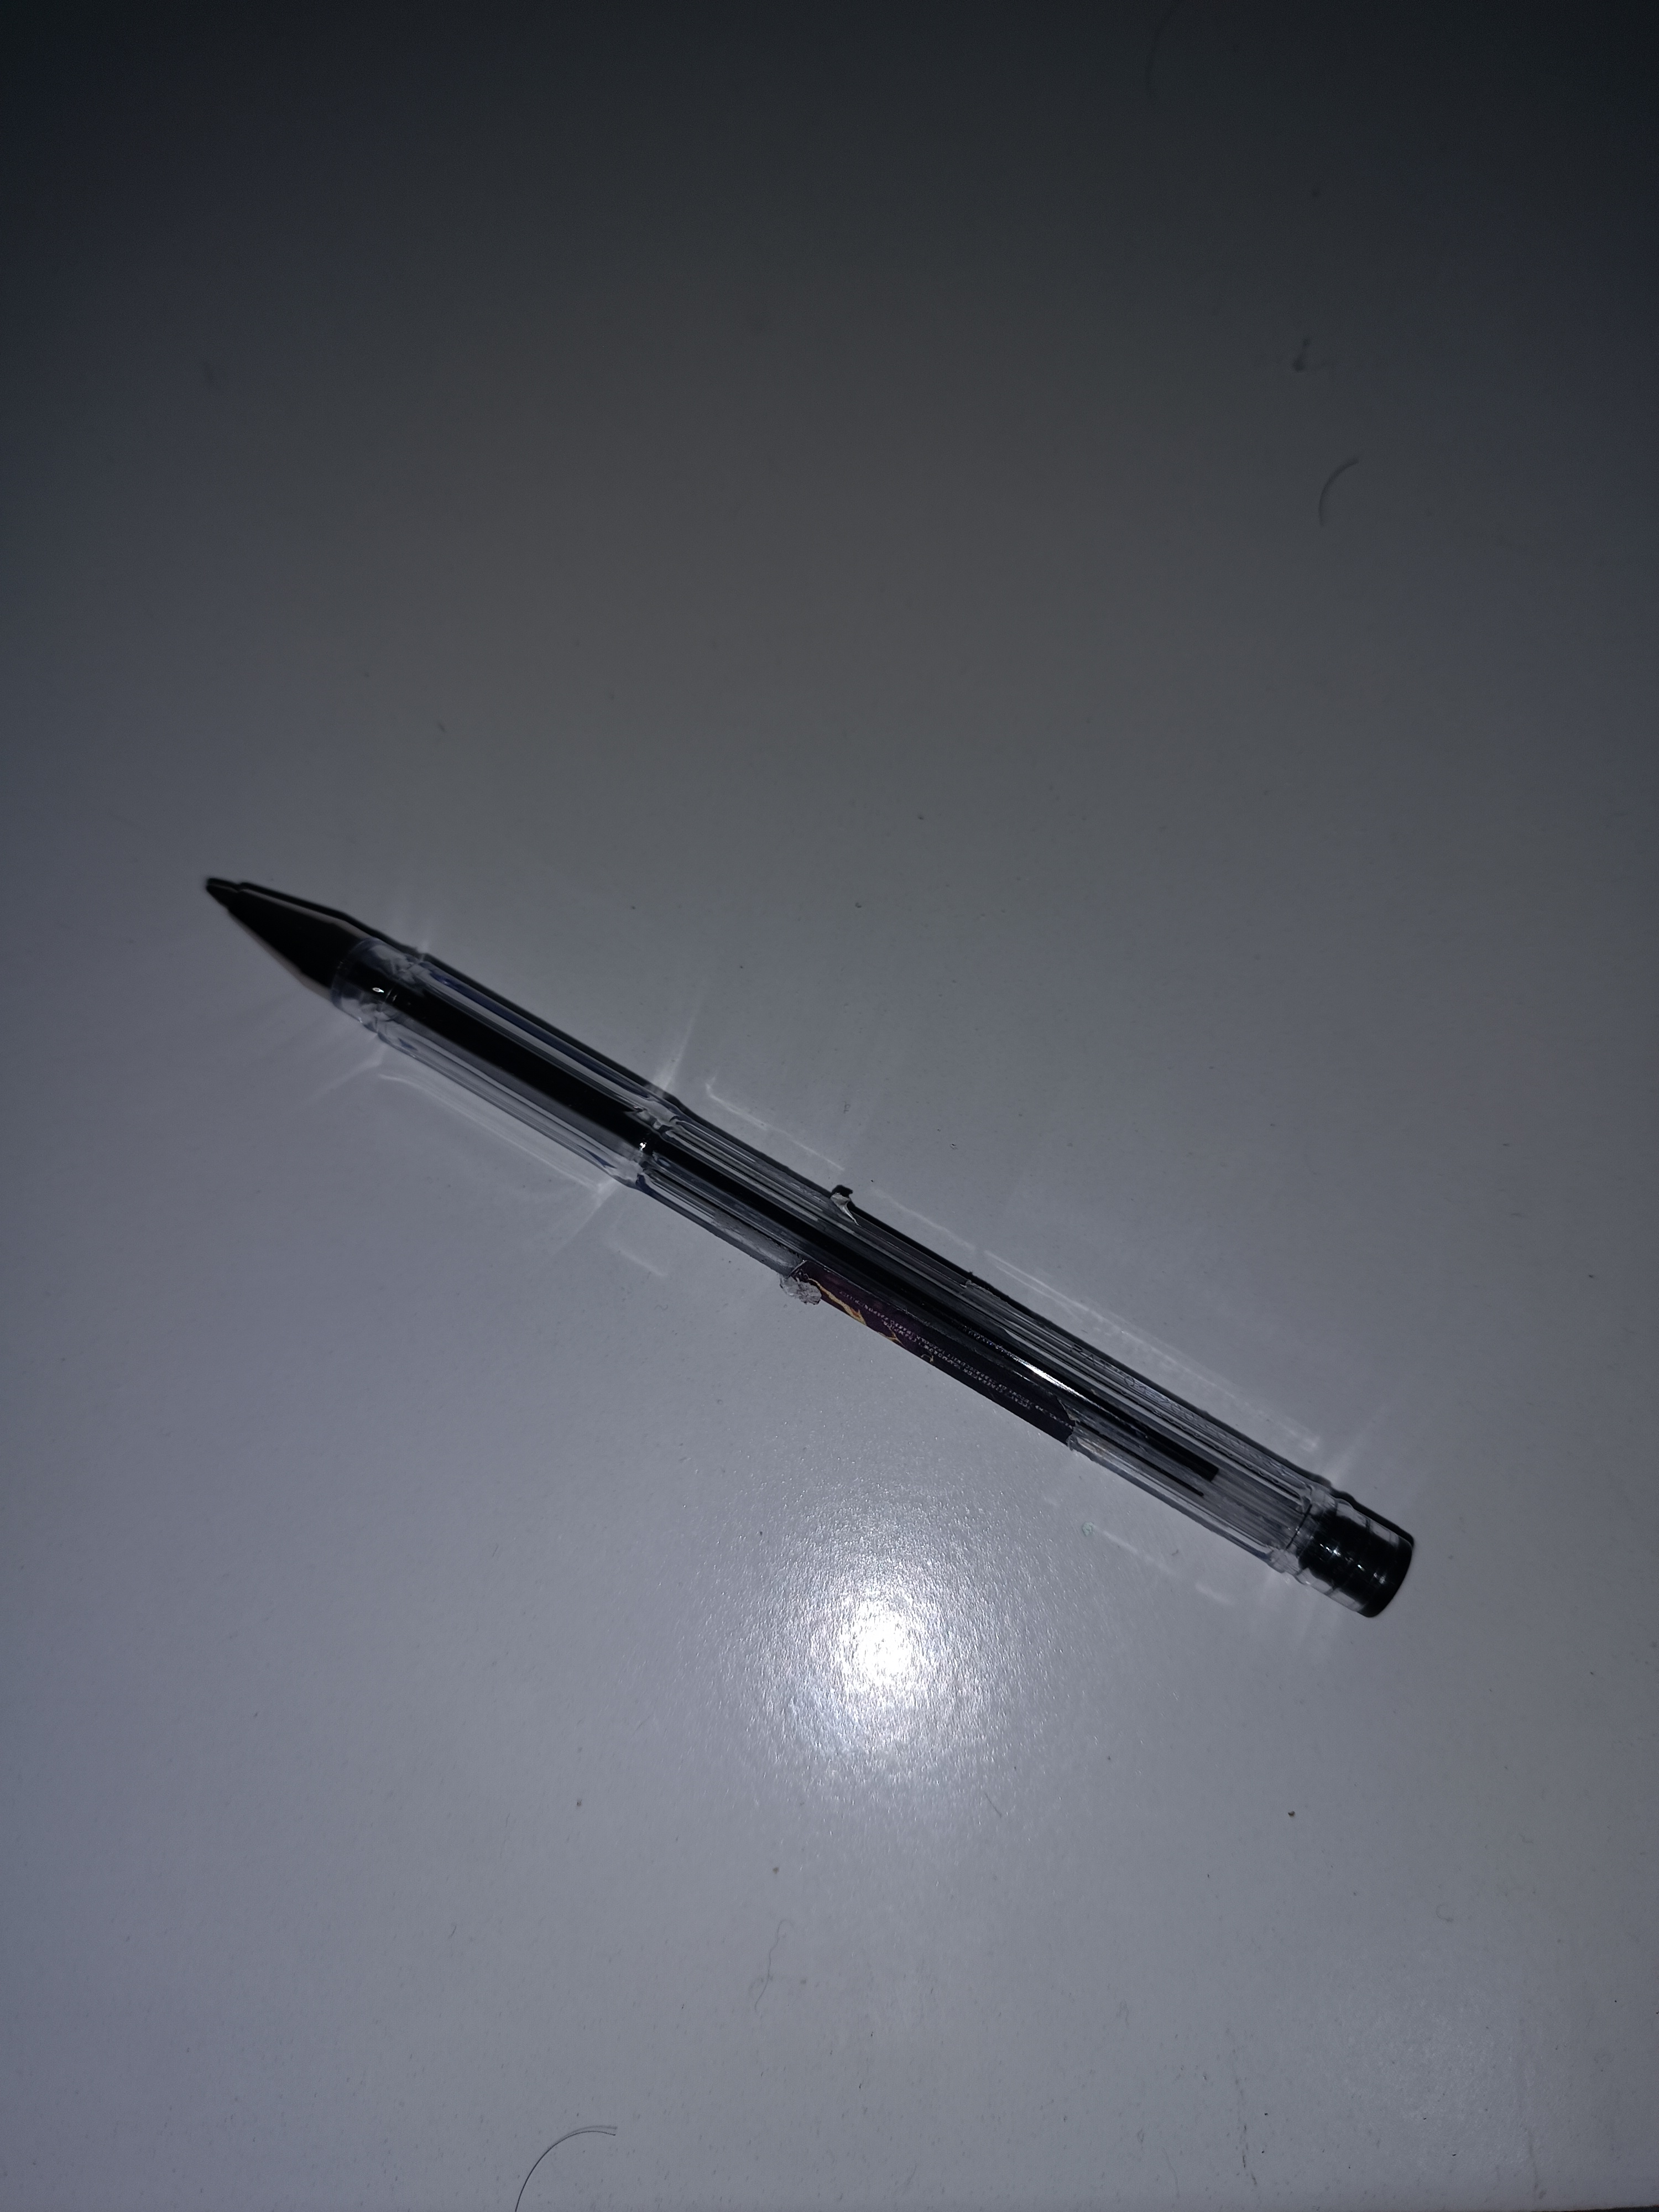Pen: (152, 786, 1405, 1644)
